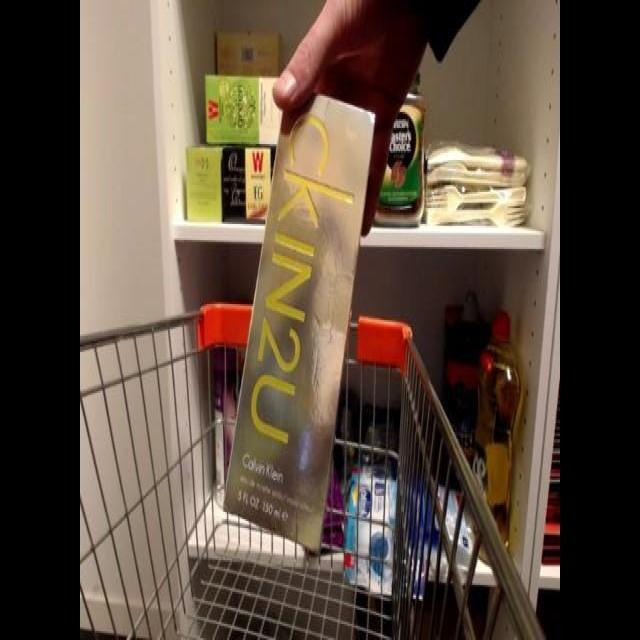Calvin Klein: (220, 82, 380, 558)
